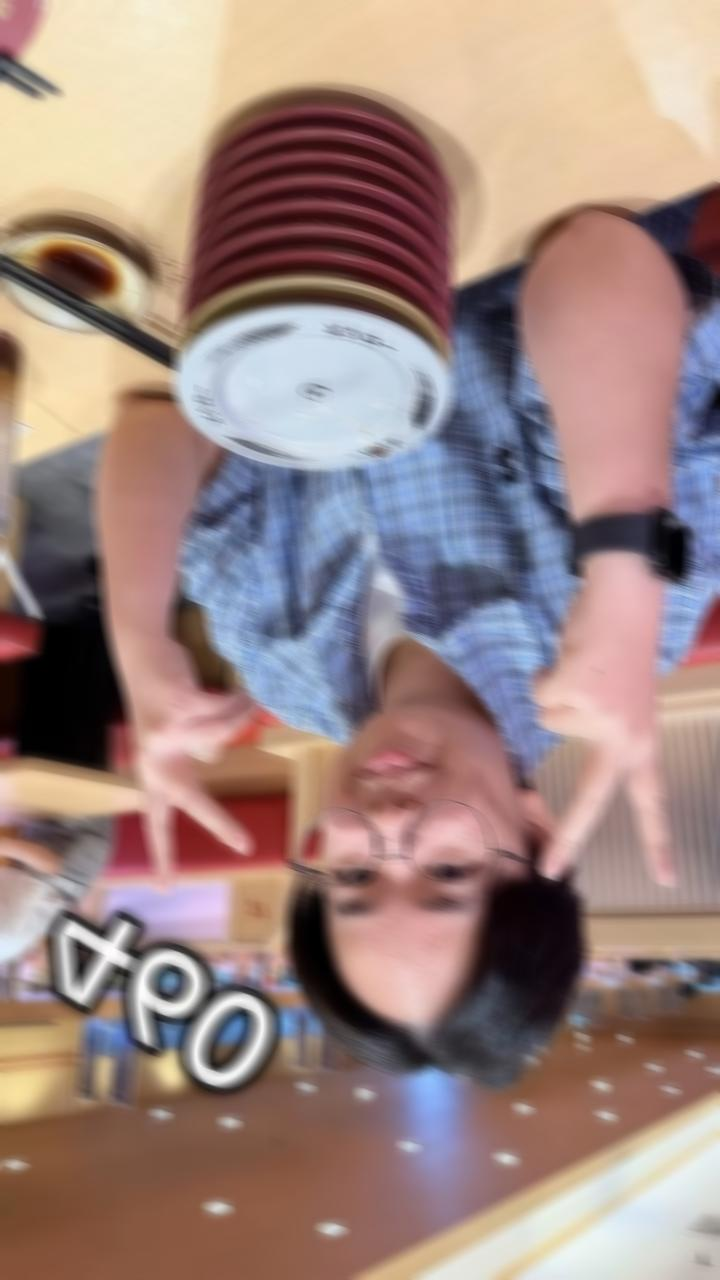Jangold: (212, 281, 407, 305)
Janred: (233, 245, 403, 271), (244, 169, 406, 195), (234, 222, 412, 242), (244, 196, 404, 217), (255, 101, 420, 121), (251, 129, 419, 148), (246, 150, 402, 168)
Janwhite: (186, 334, 452, 447)
